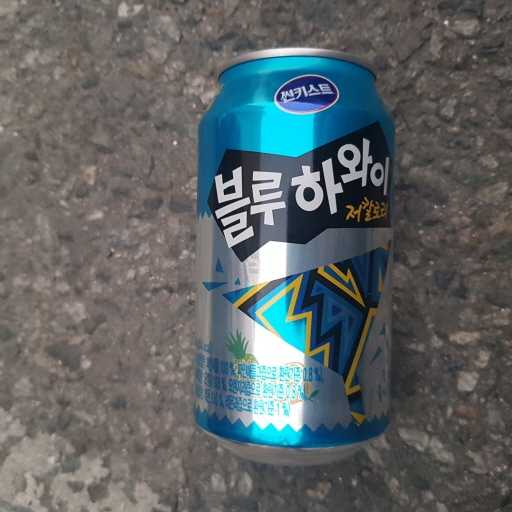Metal_0: (188, 46, 395, 462)
